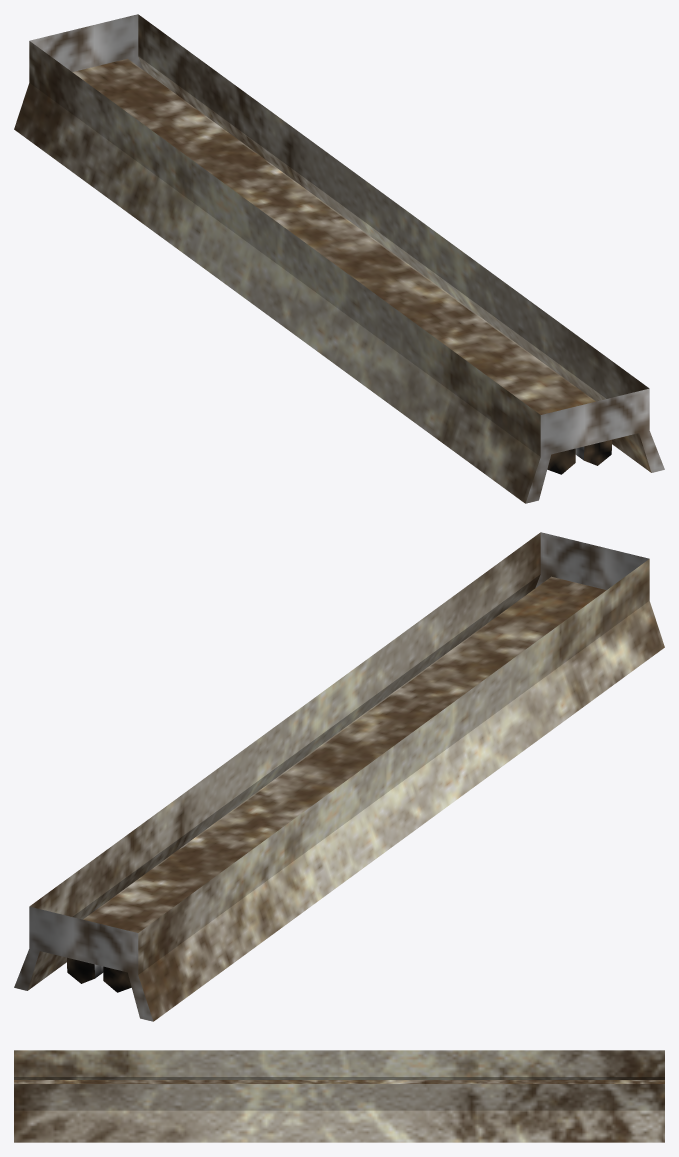
The model's file is prop_light_2.obj.
The picture shows the model from 3 angles, top to bottom: view 1: azimuth 30°, elevation 25°; view 2: azimuth 150°, elevation 25°; view 3: azimuth 270°, elevation 25°; orthographic projection. The views are drawn at different scales.
Parts seen in each view (by area): view 1: Props_LightFixture_02; view 2: Props_LightFixture_02; view 3: Props_LightFixture_02.
Boxes of the visible parts, x1,y1,x2,y2 form: Props_LightFixture_02: (14, 14, 664, 503); Props_LightFixture_02: (14, 532, 664, 1021); Props_LightFixture_02: (14, 1050, 664, 1142).
Size of the model in its own units: 0.3343 by 0.1945 by 2.12.
Materials: 1 (1 with a texture image).
